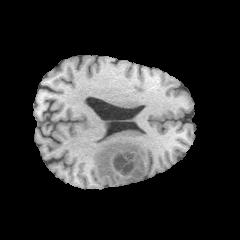glioma: (93, 134, 146, 184)
